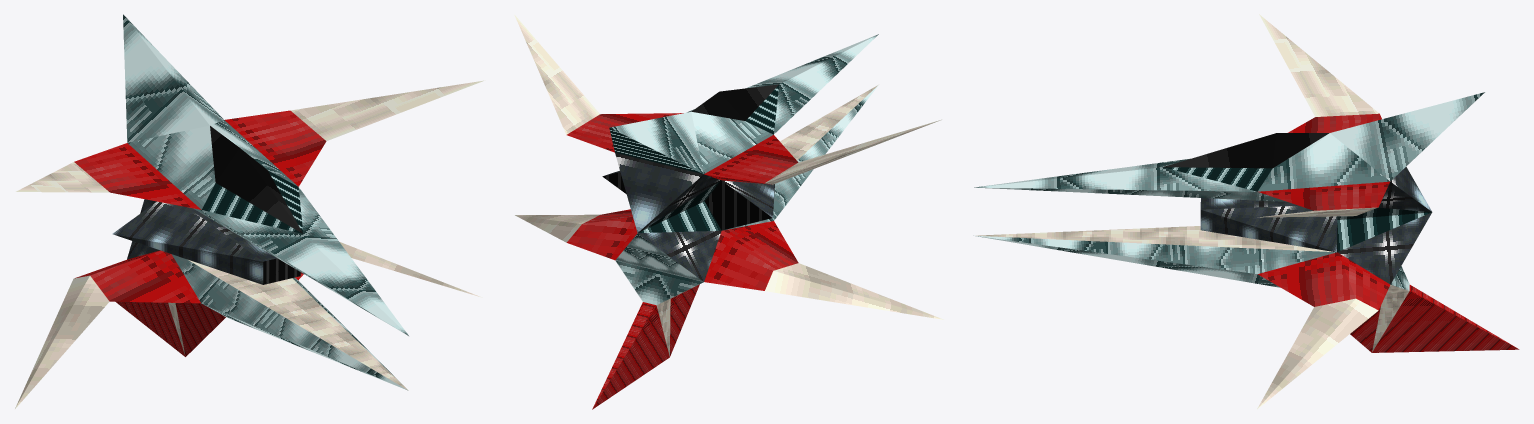
The model's file is Wolfen.dae.
The picture shows the model from 3 angles, left to right: view 1: azimuth 30°, elevation 25°; view 2: azimuth 150°, elevation 25°; view 3: azimuth 270°, elevation 25°; orthographic projection. The views are drawn at different scales.
Visible parts, largest first — view 1: metal, red, wing, plate, glass, bars, vent; view 2: red, metal, wing, plate, bars, vent, glass; view 3: metal, red, wing, plate, bars, glass.
Part boxes in pixels (<box>): metal: <box>123,14,408,390</box>; red: <box>74,110,326,356</box>; wing: <box>15,80,483,408</box>; plate: <box>112,199,276,284</box>; glass: <box>210,126,302,233</box>; bars: <box>202,170,303,233</box>; vent: <box>263,258,300,284</box>; red: <box>567,113,798,409</box>; metal: <box>610,34,878,305</box>; wing: <box>514,15,943,356</box>; plate: <box>604,152,774,281</box>; bars: <box>609,85,779,233</box>; vent: <box>602,172,772,230</box>; glass: <box>691,84,778,120</box>; metal: <box>974,92,1484,290</box>; red: <box>1258,113,1519,352</box>; wing: <box>976,14,1409,409</box>; plate: <box>1200,167,1432,284</box>; bars: <box>1164,167,1431,251</box>; glass: <box>1163,133,1329,168</box>.
Size of the model in its own units: 126 by 76.04 by 144.
Materials: 7 (7 with a texture image).
